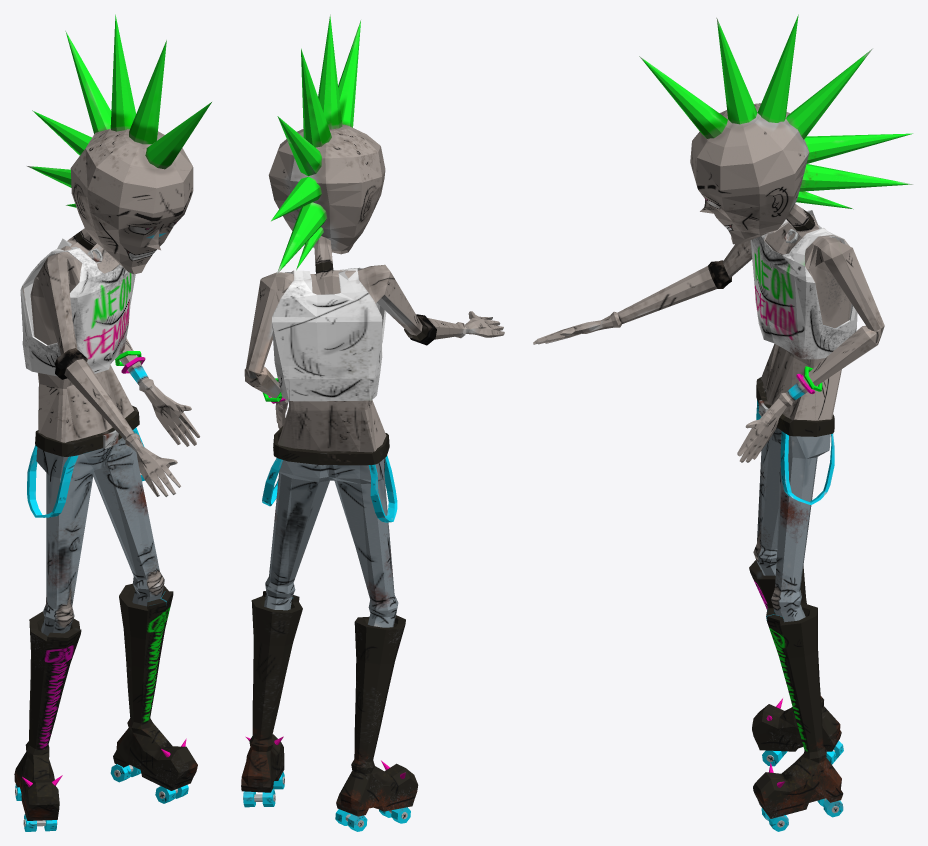
Rendered from punkAnimation_000004.obj.
3 renders of one model, left to right at view 1: azimuth 30°, elevation 25°; view 2: azimuth 150°, elevation 25°; view 3: azimuth 270°, elevation 25°, orthographic. The views are drawn at different scales.
Visible parts, largest first — view 1: Cube.004_Cube.003; view 2: Cube.004_Cube.003; view 3: Cube.004_Cube.003.
Boxes of the visible parts, box(x1,y1,x2,y2) form: Cube.004_Cube.003: box(14, 14, 211, 831); Cube.004_Cube.003: box(241, 14, 504, 831); Cube.004_Cube.003: box(533, 14, 912, 831).
Bounding box in the file's own units: 1.68 × 7.51 × 3.27.
